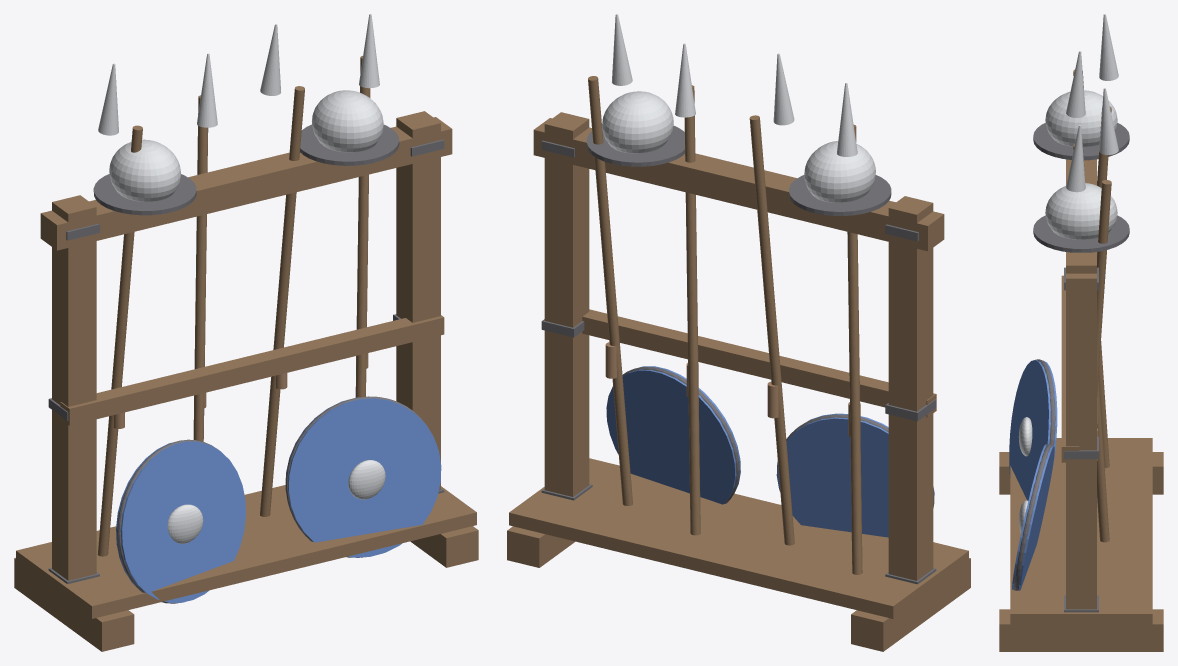
Rendered from armory_rack.glb.
3 views of the same model, side by side, from view 1: azimuth 30°, elevation 25°; view 2: azimuth 150°, elevation 25°; view 3: azimuth 270°, elevation 25° (orthographic). The views are drawn at different scales.
Parts seen in each view (by area): view 1: Cylinder.009, Cube.003, Cube.002, Cylinder.008, Cube.004, Cube.005, Cube.006, Cylinder.004, Sphere.003, Cube, Sphere.002, Cylinder (+13 smaller); view 2: Cube.002, Cube.004, Cube.003, Cylinder.009, Cylinder.008, Cube.005, Cube.006, Cylinder.002, Cylinder.006, Cylinder.004, Cylinder, Sphere.003 (+10 smaller); view 3: Cube.002, Cube.004, Cube.001, Cylinder.008, Sphere.003, Sphere.002, Cylinder.009, Cylinder.011, Cylinder.006, Cube.005, Cylinder.010, Cylinder.004 (+12 smaller).
Part boxes in pixels (box(x1,y1,x2,y2)): Cylinder.009: box(285, 397, 441, 557); Cube.003: box(52, 195, 96, 580); Cube.002: box(16, 485, 476, 618); Cylinder.008: box(116, 440, 245, 602); Cube.004: box(396, 111, 440, 490); Cube.005: box(40, 117, 452, 250); Cube.006: box(60, 315, 444, 425); Cylinder.004: box(260, 86, 304, 516); Sphere.003: box(312, 90, 383, 152); Cube: box(14, 557, 134, 651); Sphere.002: box(109, 139, 180, 201); Cylinder: box(97, 125, 142, 556); Cube.002: box(509, 458, 968, 618); Cube.004: box(544, 112, 589, 496); Cube.003: box(888, 196, 933, 580); Cylinder.009: box(606, 366, 740, 504); Cylinder.008: box(776, 413, 934, 537); Cube.005: box(533, 118, 944, 251); Cube.006: box(582, 309, 936, 417); Cylinder.002: box(749, 115, 794, 545); Cylinder.006: box(588, 76, 632, 505); Cylinder.004: box(684, 85, 700, 535); Cylinder: box(847, 125, 862, 574); Sphere.003: box(602, 91, 673, 153); Cube.002: box(1010, 438, 1152, 625); Cube.004: box(1066, 252, 1096, 609); Cube.001: box(999, 609, 1163, 651); Cylinder.008: box(1009, 360, 1057, 500); Sphere.003: box(1045, 183, 1117, 239); Sphere.002: box(1045, 90, 1117, 147); Cylinder.009: box(1012, 444, 1054, 590); Cylinder.011: box(1033, 215, 1129, 252); Cylinder.006: box(1097, 180, 1111, 396); Cube.005: box(1066, 159, 1096, 302); Cylinder.010: box(1033, 123, 1129, 160); Cylinder.004: box(1073, 143, 1109, 542).
Size of the model in its own units: 1.95 by 2.5 by 0.75.
